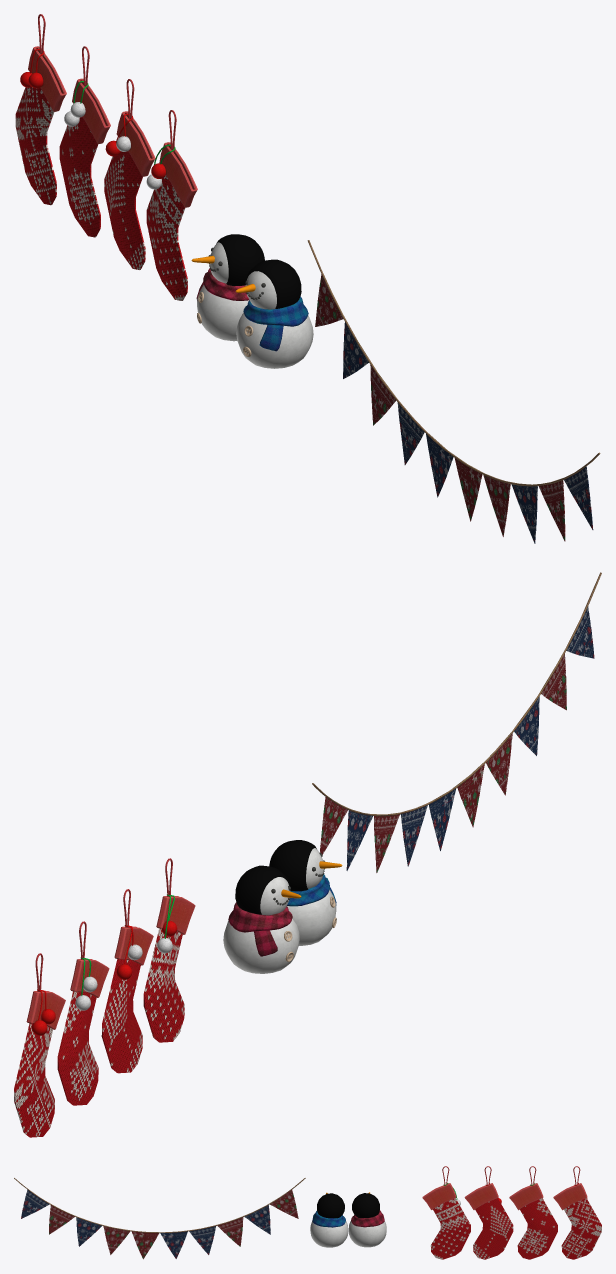
The model's file is decorations.opt.glb.
The picture shows the model from 3 angles, top to bottom: view 1: azimuth 30°, elevation 25°; view 2: azimuth 150°, elevation 25°; view 3: azimuth 270°, elevation 25°; orthographic projection. The views are drawn at different scales.
Visible parts, largest first — view 1: polySurface23, pCube9, pCube3, pCube7, pCube5, polySurface41, polySurface21, polySurface36, polySurface18.001, pCube10, pCube8, pCube4 (+13 smaller); view 2: pCube3, pCube5, polySurface41, pCube7, pCube9, polySurface23, polySurface39, polySurface18.001, polySurface36, polySurface9, pCube10, pCube8 (+12 smaller); view 3: pCube7, pCube5, pCube9, pCube3, polySurface41, polySurface23, polySurface18.001, polySurface36, pCube10, pCube8, pCube4, pCube6 (+13 smaller).
Boxes of the visible parts, box(x1,y1,x2,y2) form: polySurface23: box(236, 271, 313, 368); pCube9: box(146, 175, 187, 300); pCube3: box(15, 87, 56, 205); pCube7: box(104, 151, 145, 269); pCube5: box(59, 117, 100, 237); polySurface41: box(197, 242, 248, 341); polySurface21: box(243, 296, 308, 351); polySurface36: box(216, 234, 264, 285); polySurface18.001: box(245, 259, 301, 308); pCube10: box(159, 142, 197, 207); pCube8: box(116, 111, 155, 176); pCube4: box(28, 46, 66, 111); pCube3: box(14, 1023, 54, 1137); pCube5: box(57, 991, 98, 1105); polySurface41: box(223, 877, 299, 973); pCube7: box(101, 959, 142, 1073); pCube9: box(143, 928, 184, 1042); polySurface23: box(287, 848, 336, 945); polySurface39: box(228, 902, 292, 956); polySurface18.001: box(269, 840, 316, 891); polySurface36: box(235, 865, 290, 914); polySurface9: box(312, 572, 601, 816); pCube10: box(156, 895, 195, 934); pCube8: box(114, 926, 153, 965); pCube7: box(473, 1198, 513, 1259); pCube5: box(517, 1198, 557, 1259); pCube9: box(430, 1198, 470, 1259); pCube3: box(561, 1198, 601, 1259); polySurface41: box(348, 1221, 386, 1247); polySurface23: box(310, 1221, 348, 1247); polySurface18.001: box(317, 1193, 344, 1218); polySurface36: box(352, 1193, 379, 1218); pCube10: box(422, 1183, 456, 1209); pCube8: box(464, 1183, 498, 1209); pCube4: box(553, 1183, 587, 1210); pCube6: box(509, 1183, 543, 1210).
Size of the model in its own units: 0.2989 by 0.7084 by 4.
3 materials, 3 textured.
